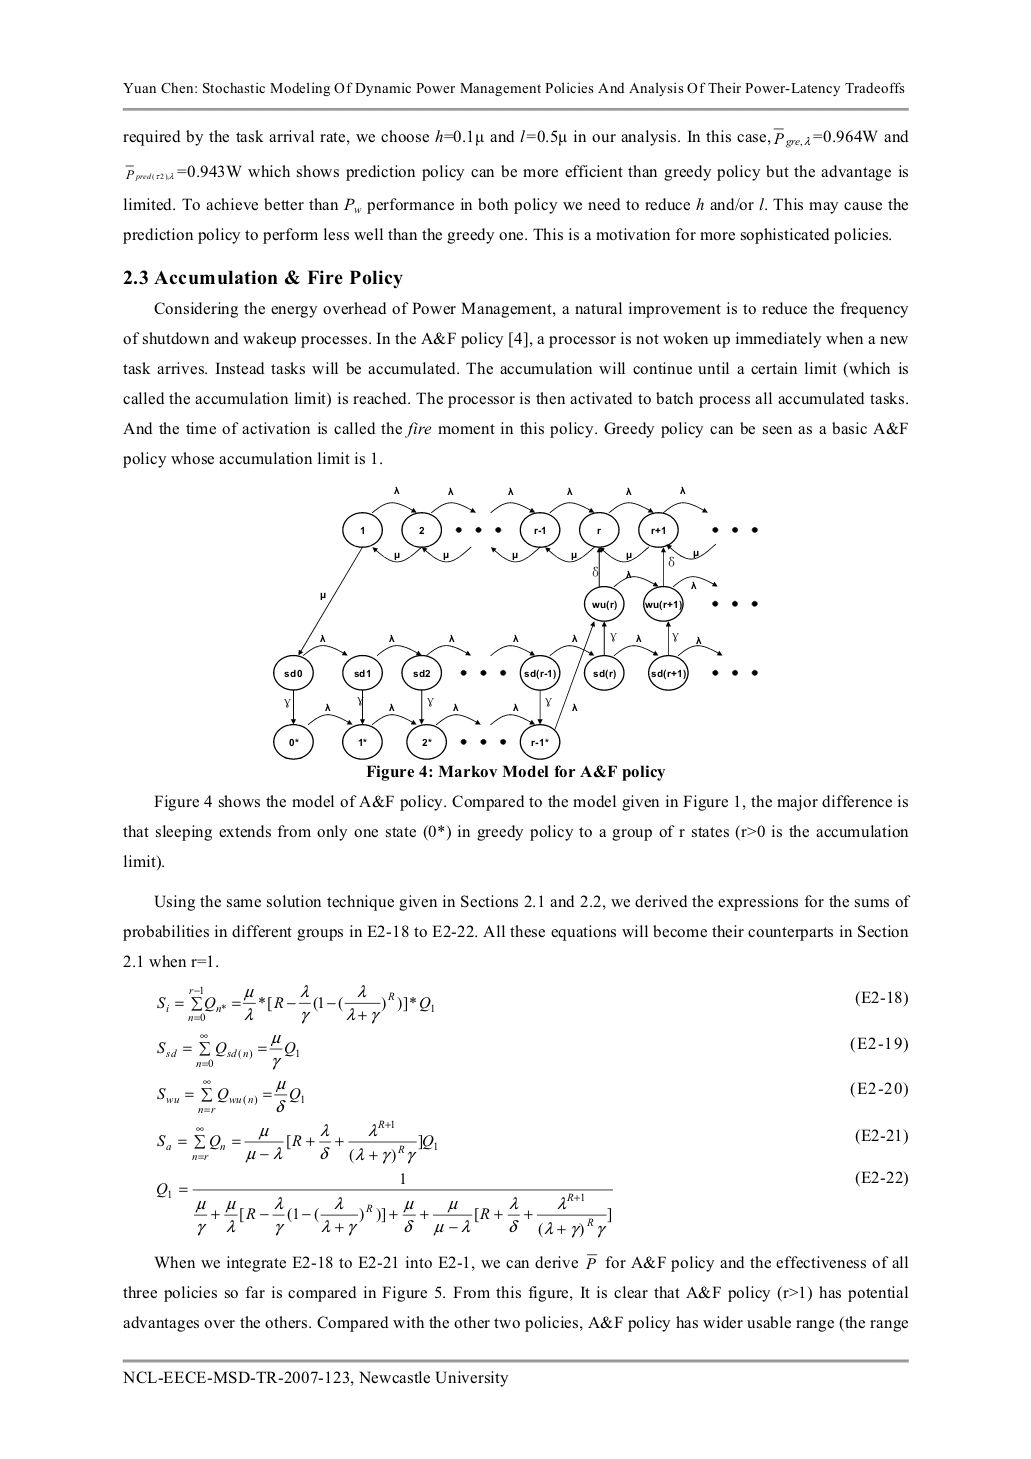figure: (273, 486, 757, 759), (122, 1357, 908, 1363), (122, 107, 908, 112)
formula: (157, 1170, 907, 1238), (157, 1118, 907, 1165), (157, 984, 907, 1024), (157, 1033, 907, 1070), (157, 1079, 907, 1113)
